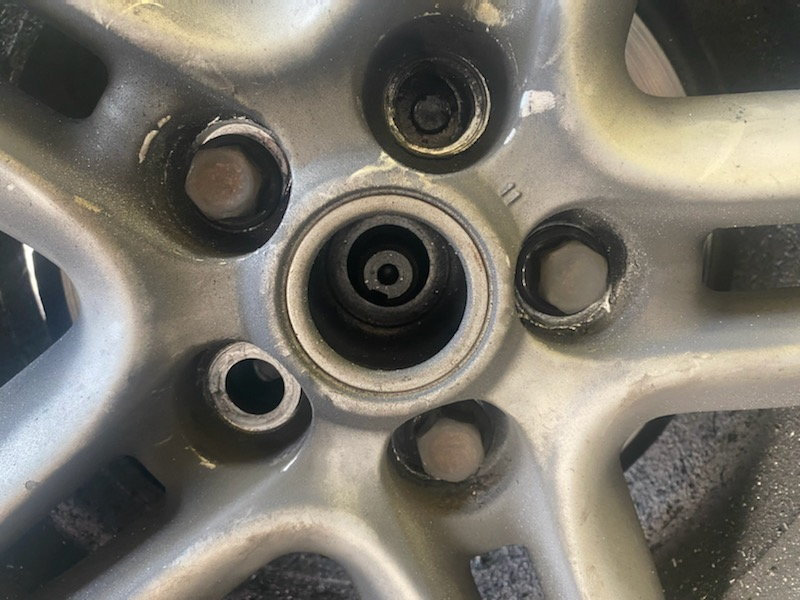l: (166, 123, 270, 244), (392, 401, 512, 497), (518, 224, 622, 332)
m: (378, 31, 497, 160), (193, 315, 299, 440)
